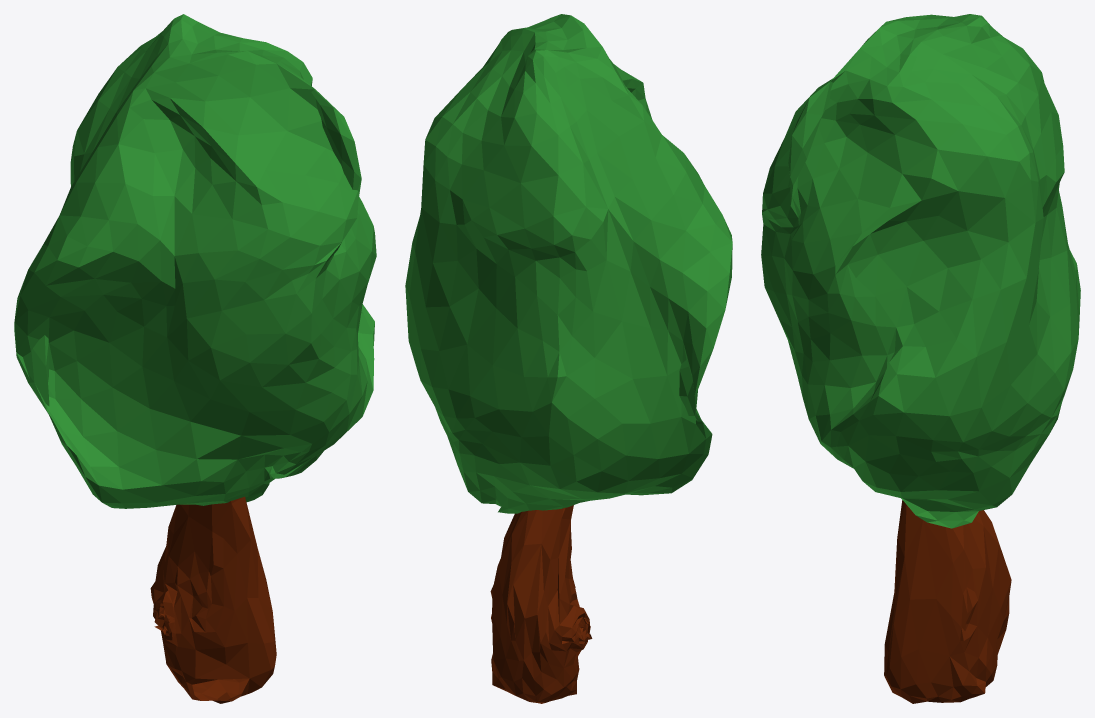
The model's file is tree.02.gltf.
3 views of the same model, side by side, from view 1: azimuth 30°, elevation 25°; view 2: azimuth 150°, elevation 25°; view 3: azimuth 270°, elevation 25° (orthographic). The views are drawn at different scales.
Visible parts, largest first — view 1: Tree.02; view 2: Tree.02; view 3: Tree.02.
Boxes of the visible parts, x1,y1,x2,y2 form: Tree.02: (14,14,376,703); Tree.02: (405,14,732,703); Tree.02: (761,14,1080,703).
Bounding box in the file's own units: 1.75 × 3.47 × 1.49.
